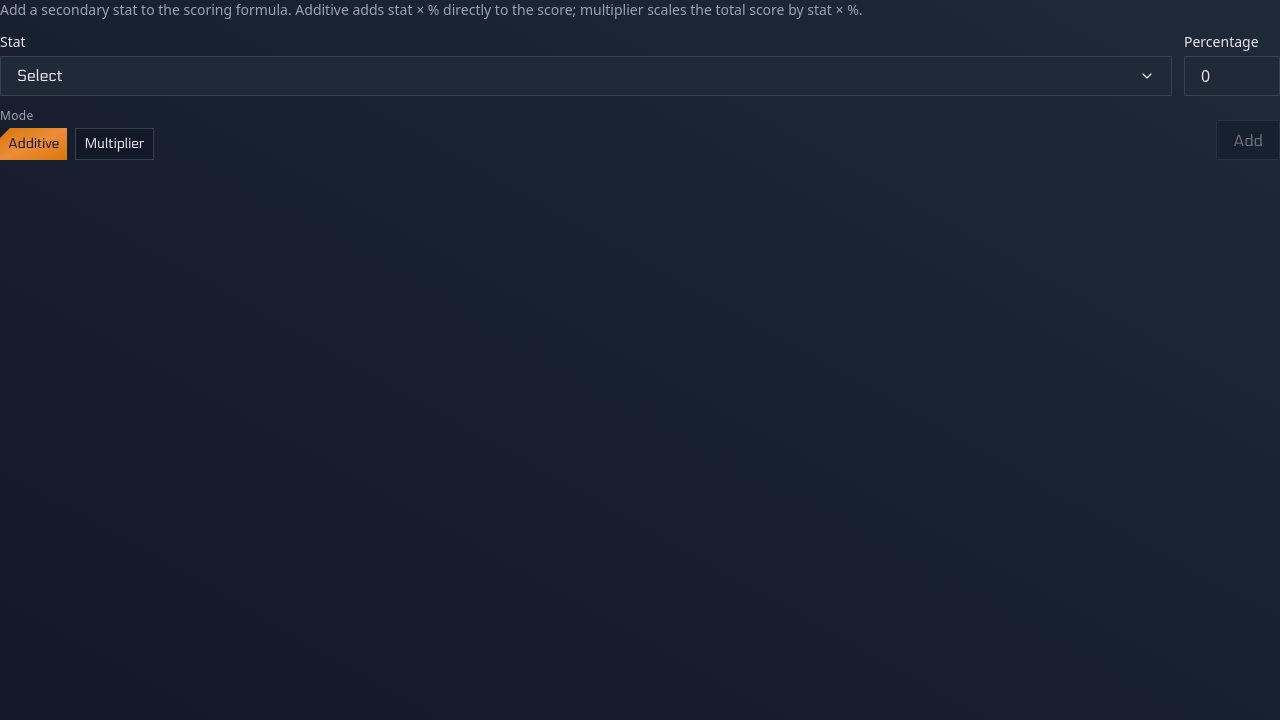
StatBonusForm contribution preview › shows the base score and the resulting score once a stat is chosen
What coordinates should you click on to do the following:
click the label labelled "Stat"
I would click on:
 (13, 42)
Its box is left=0, top=32, right=26, bottom=51.
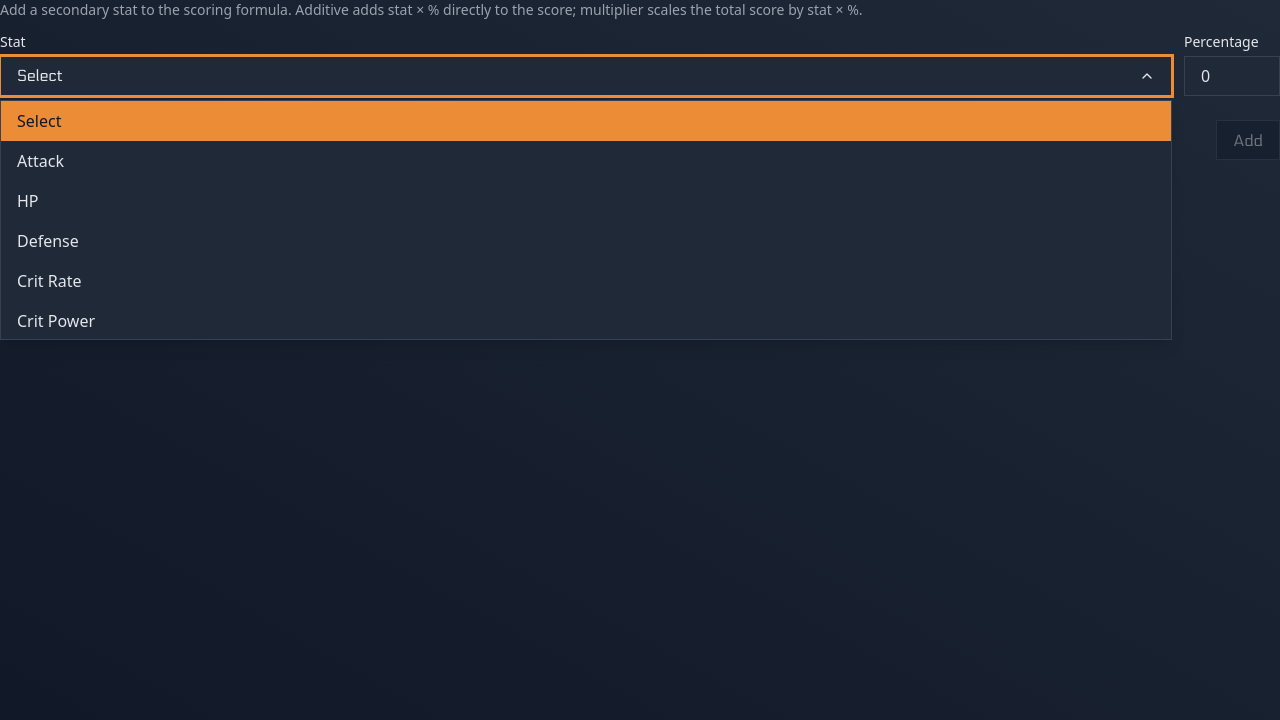
What coordinates should you click on to do the following:
click the option "HP"
I would click on:
 (28, 201)
Its box is left=17, top=190, right=38, bottom=212.
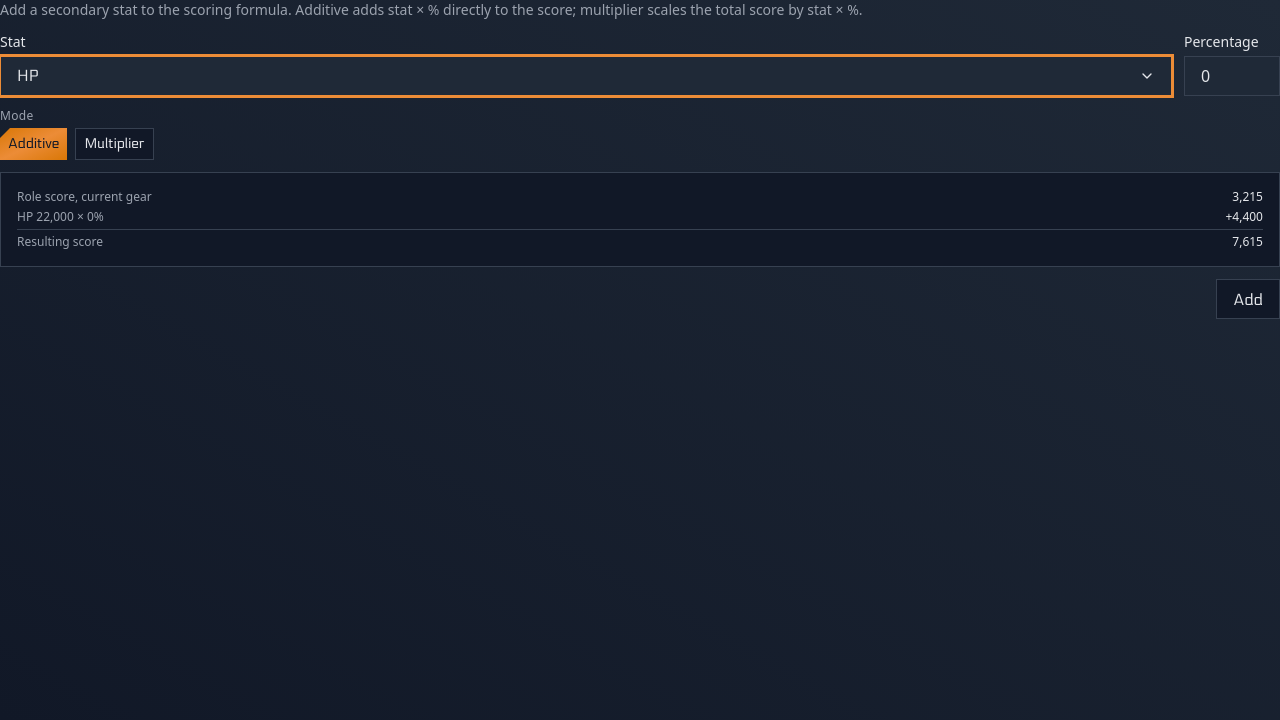
Expected: the element with test id "stat-bonus-preview" shows "3,215", left=1232, top=188, right=1263, bottom=205
Expected: the element with test id "stat-bonus-preview" shows "+4,400", left=0, top=172, right=1279, bottom=267
Expected: the element with test id "stat-bonus-preview" shows "7,615", left=1232, top=233, right=1263, bottom=250
